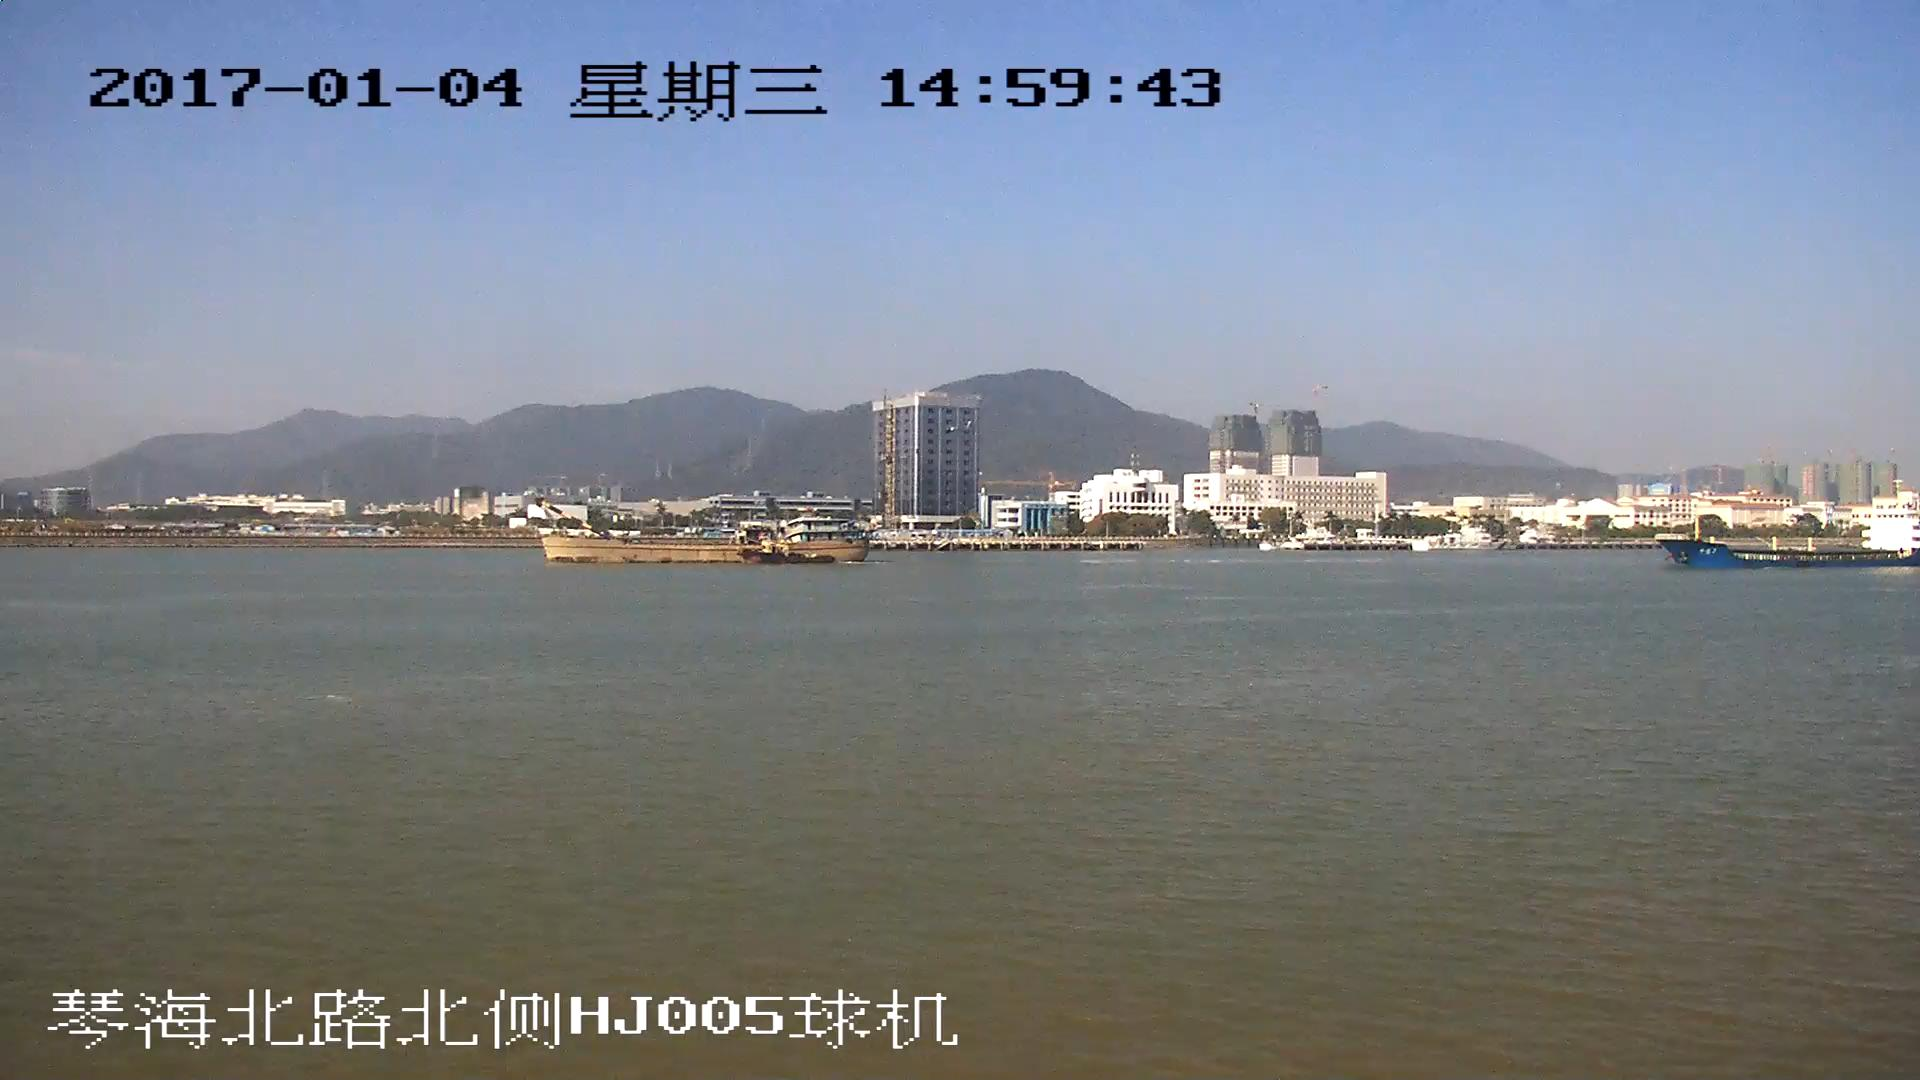bulk cargo carrier: (537, 495, 867, 563)
general cargo ship: (1658, 495, 1920, 570)
